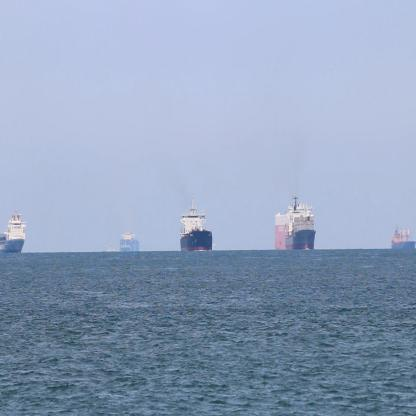Container Ship: (274, 191, 318, 254), (178, 193, 214, 255), (0, 210, 28, 258), (392, 226, 416, 252), (120, 227, 140, 256), (108, 244, 122, 256)
